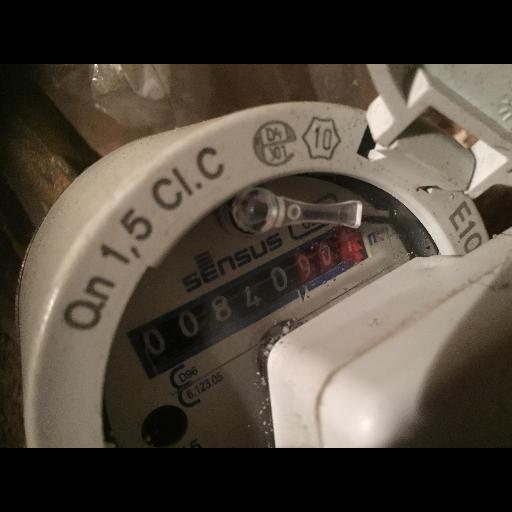0: (134, 319, 180, 370), (170, 304, 211, 350), (262, 260, 299, 300), (311, 236, 342, 272)
1: (332, 227, 362, 261)
4: (232, 275, 270, 316)
8: (202, 288, 245, 333)
9: (291, 248, 320, 284)
border_water_meter_number: (125, 216, 377, 380)
